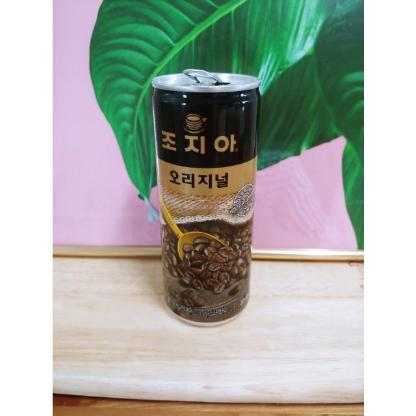Can: (150, 70, 260, 328)
